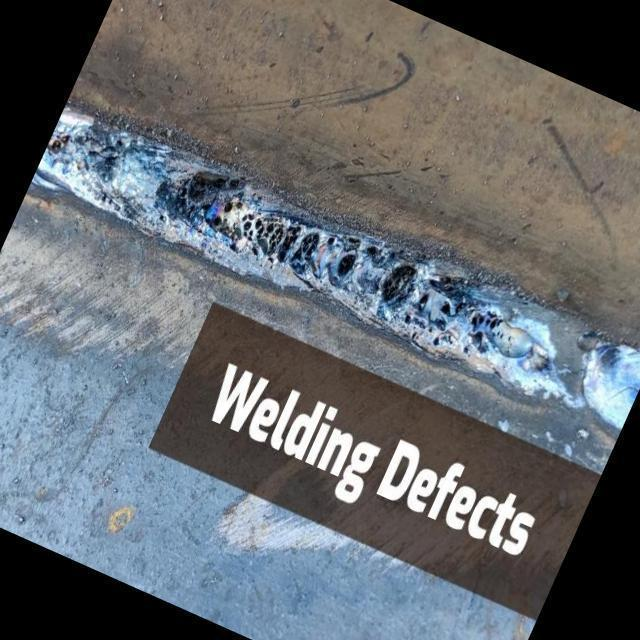defect: (173, 170, 320, 277), (461, 307, 517, 360), (379, 261, 421, 307), (335, 235, 362, 276), (98, 139, 126, 173), (424, 269, 458, 294), (47, 130, 72, 154), (439, 299, 469, 319), (418, 291, 431, 315), (99, 191, 116, 207), (366, 243, 377, 258), (325, 235, 338, 246), (410, 330, 418, 345), (426, 323, 434, 337), (446, 333, 454, 347), (403, 314, 412, 326), (432, 335, 439, 347), (389, 250, 395, 261), (158, 213, 166, 220)
